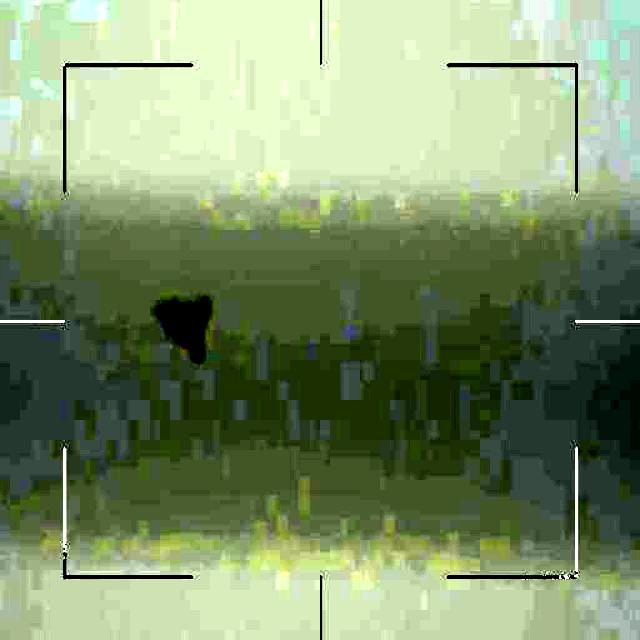bird: (155, 288, 224, 365)
